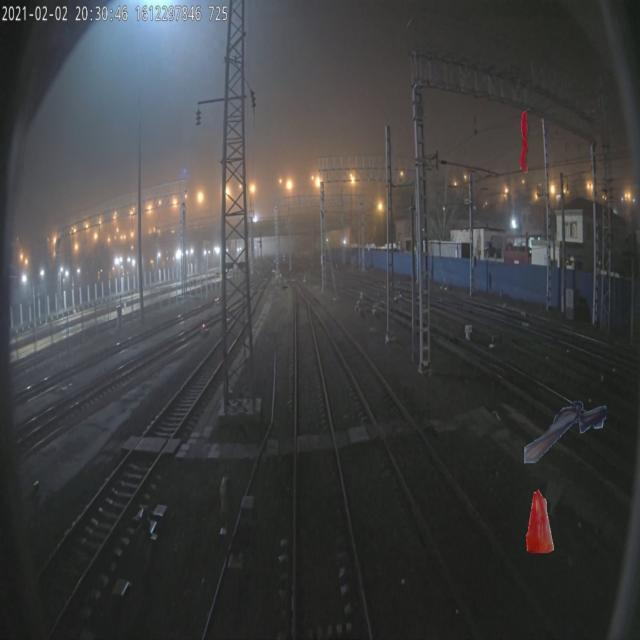floating object: (524, 399, 606, 464), (520, 110, 529, 174)
plastic bag: (526, 489, 553, 553)
